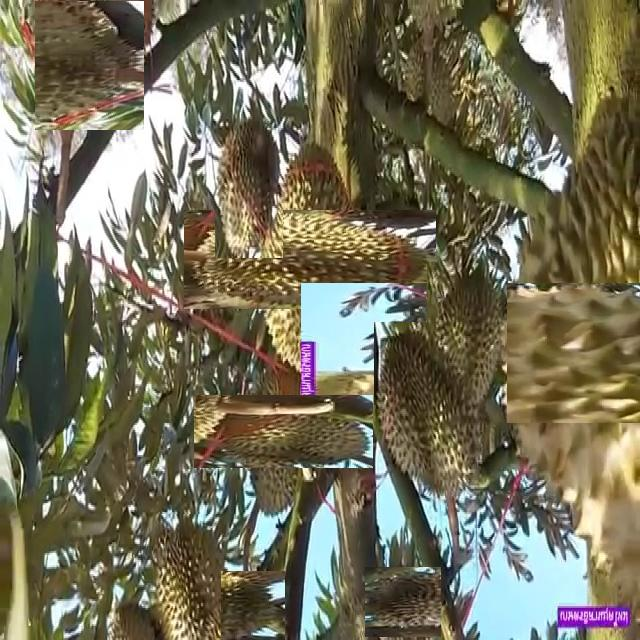durian: (399, 185, 640, 523), (222, 172, 398, 348), (374, 322, 493, 504), (220, 368, 347, 494), (25, 0, 153, 121), (427, 262, 507, 436), (154, 514, 235, 640), (215, 116, 283, 258), (400, 30, 473, 143), (366, 565, 440, 638), (218, 574, 288, 640)
